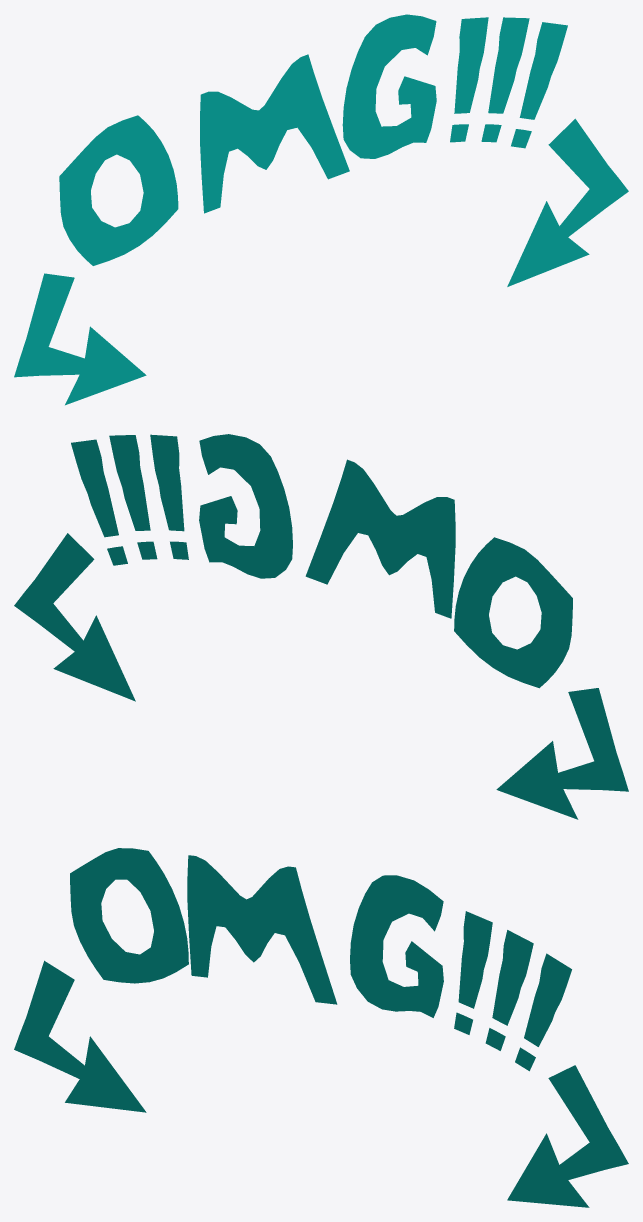
File: mesh_text_omg.fbx
3 renders of one model, top to bottom at view 1: azimuth 30°, elevation 25°; view 2: azimuth 150°, elevation 25°; view 3: azimuth 330°, elevation 25°, orthographic.
Parts seen in each view (by area): view 1: mesh_text_omg2, mesh_text_omg, mesh_text_omg1; view 2: mesh_text_omg2, mesh_text_omg, mesh_text_omg1; view 3: mesh_text_omg2, mesh_text_omg, mesh_text_omg1.
Part boxes in pixels (x1,y1,x2,y2): mesh_text_omg2: [59, 14, 567, 265]; mesh_text_omg: [507, 118, 628, 286]; mesh_text_omg1: [14, 273, 146, 405]; mesh_text_omg2: [71, 434, 572, 688]; mesh_text_omg: [14, 533, 135, 701]; mesh_text_omg1: [496, 688, 628, 819]; mesh_text_omg2: [70, 848, 571, 1071]; mesh_text_omg: [507, 1065, 628, 1207]; mesh_text_omg1: [14, 960, 146, 1112].
Bounding box in the file's own units: 0.129 × 0.0611 × 0.00417.
